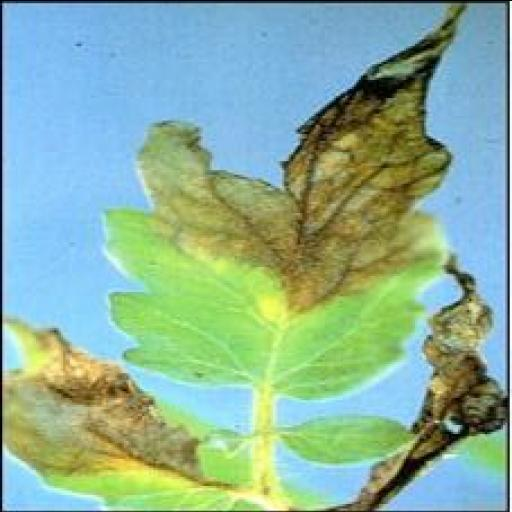Late Blight: (2, 2, 512, 510)
